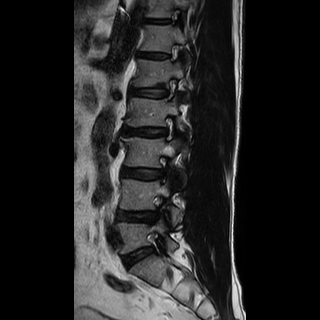LFS0: (158, 109, 178, 147), (161, 71, 181, 108)
LFS1: (139, 229, 167, 262)
LFS3: (142, 189, 172, 226)
